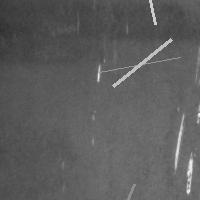scratches: (108, 34, 176, 91), (94, 52, 185, 77), (173, 110, 197, 197), (130, 0, 160, 29), (113, 179, 139, 200), (94, 57, 110, 86)
